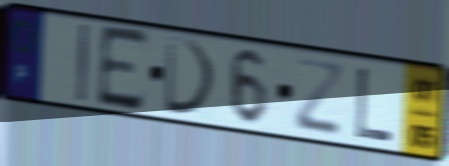6: (229, 47, 270, 128)
D: (162, 33, 220, 119)
E: (95, 22, 151, 115)
I: (75, 21, 92, 105)
L: (352, 64, 396, 146)
Z: (293, 54, 347, 140)
